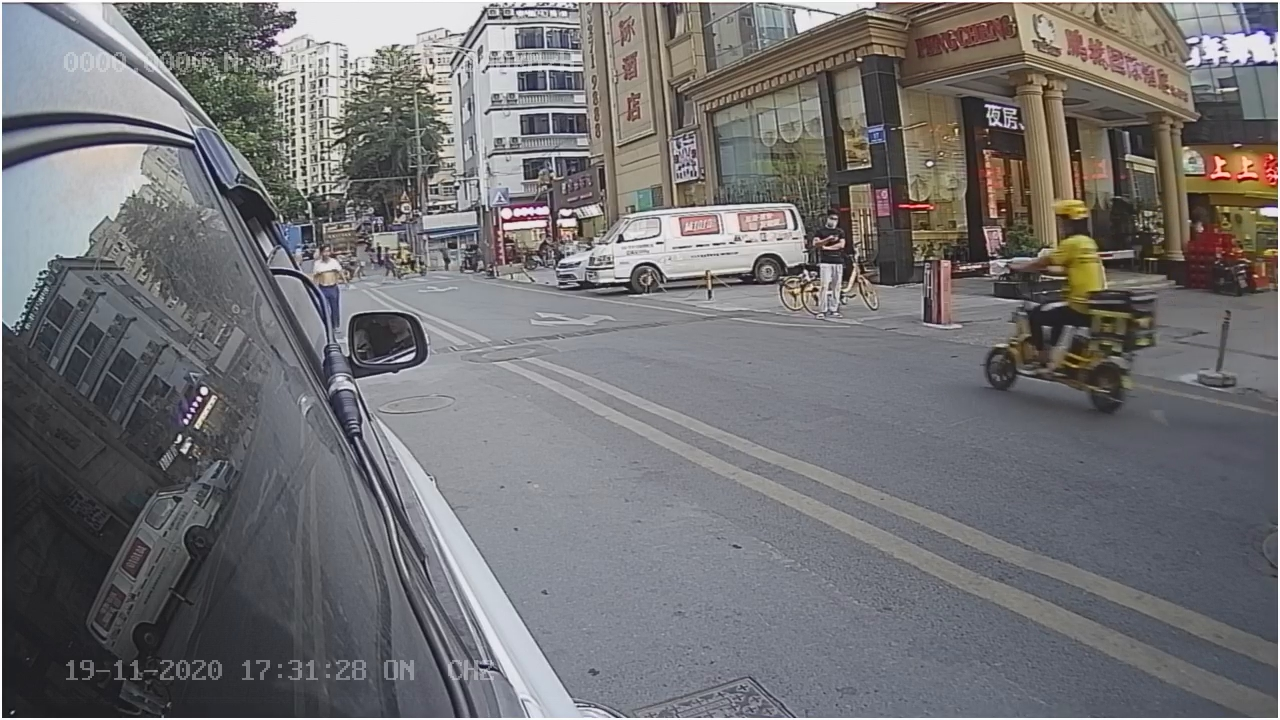person: (1024, 203, 1111, 286)
